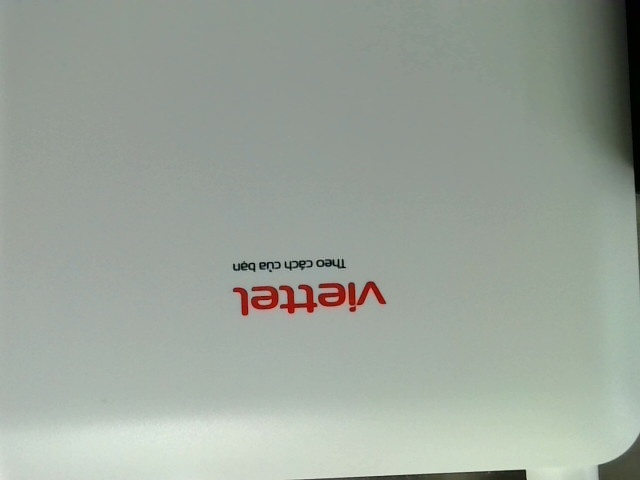AY_Viettel: (228, 252, 394, 321)
